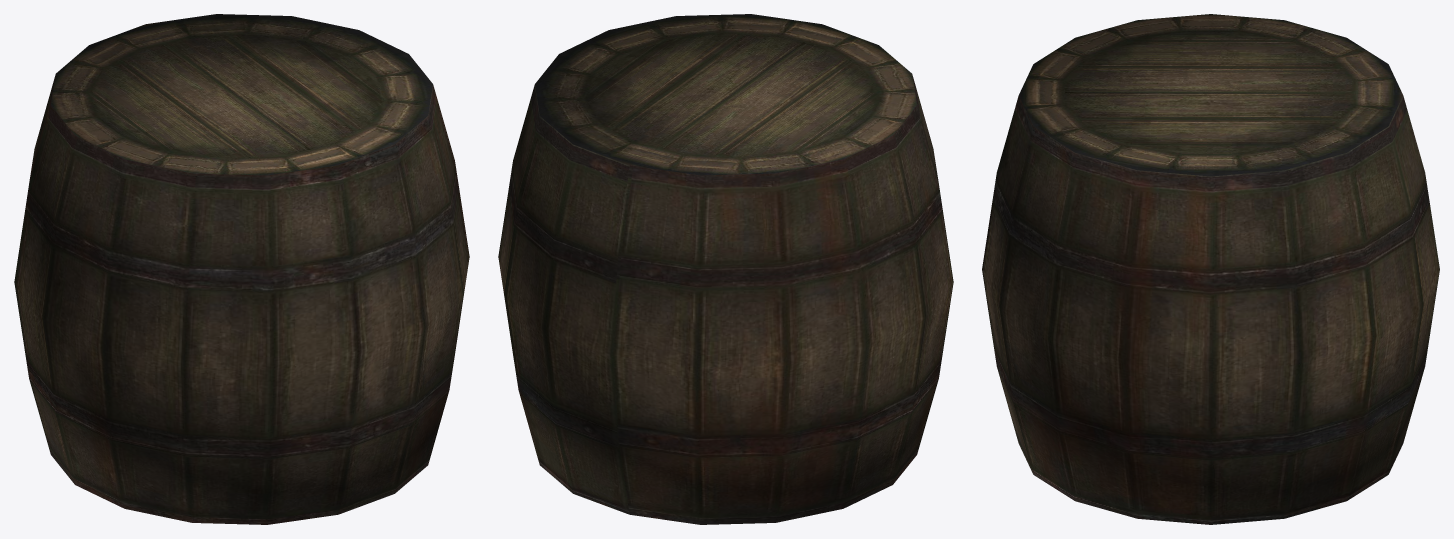
File: Barril_v1.fbx
The picture shows the model from 3 angles, left to right: view 1: azimuth 30°, elevation 25°; view 2: azimuth 150°, elevation 25°; view 3: azimuth 270°, elevation 25°; orthographic projection.
Visible parts, largest first — view 1: Cylinder; view 2: Cylinder; view 3: Cylinder.
Boxes of the visible parts, <box> form: Cylinder: <box>14,14,469,524</box>; Cylinder: <box>498,14,953,524</box>; Cylinder: <box>982,14,1439,524</box>.
Bounding box in the file's own units: 242 × 203 × 242.
1 material, 1 textured.
